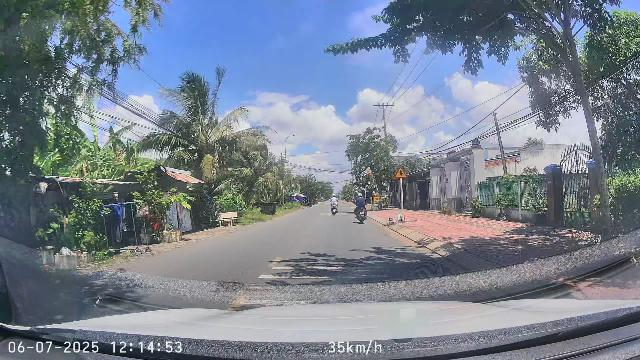207-giao-nhau-voi-duong-khong-uu-tien: (394, 167, 407, 178)
